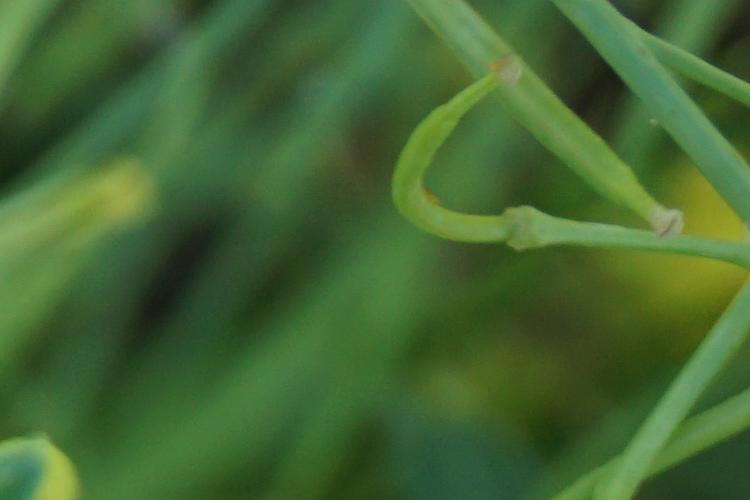bud: (410, 1, 692, 234), (387, 57, 534, 275)
